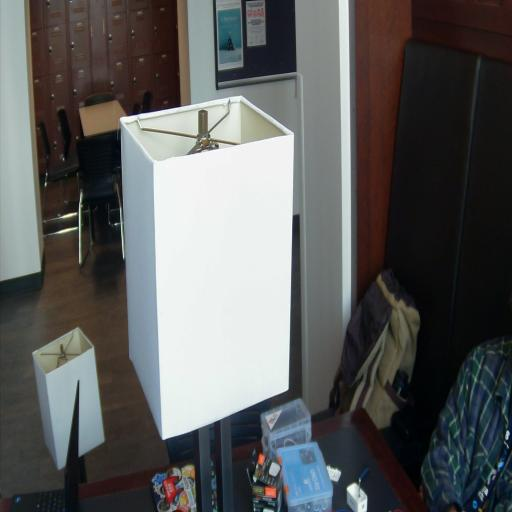lamp: (118, 94, 294, 512), (32, 329, 106, 482)
